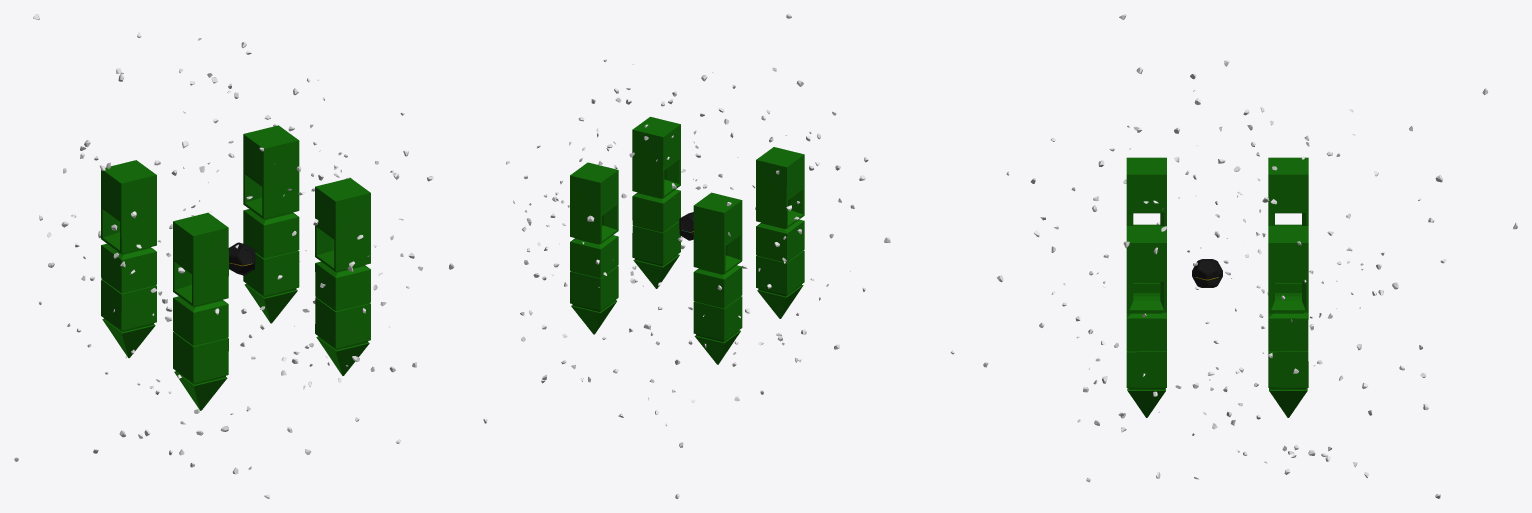
Rendered from Shards.fbx.
The picture shows the model from 3 angles, left to right: view 1: azimuth 30°, elevation 25°; view 2: azimuth 150°, elevation 25°; view 3: azimuth 270°, elevation 25°; orthographic projection. The views are drawn at different scales.
Parts seen in each view (by area): view 1: Obelisco.003, Obelisco.002, Obelisco, Obelisco.001, Eye_Ligth.001_cell, Hedron_Ship; view 2: Obelisco, Obelisco.001, Obelisco.002, Obelisco.003, Eye_Ligth.001_cell; view 3: Obelisco.001, Obelisco.002, Eye_Ligth.001_cell, Obelisco.003, Obelisco, Hedron_Ship.
Boxes of the visible parts, x1,y1,x2,y2 form: Obelisco.003: (173,212,228,410); Obelisco.002: (315,178,370,375); Obelisco: (101,160,156,357); Obelisco.001: (243,125,299,323); Eye_Ligth.001_cell: (14,14,454,498); Hedron_Ship: (228,242,255,275); Obelisco: (693,192,742,364); Obelisco.001: (570,162,618,334); Obelisco.002: (632,116,680,288); Obelisco.003: (756,147,804,318); Eye_Ligth.001_cell: (483,14,954,498); Obelisco.001: (1268,226,1308,417); Obelisco.002: (1126,226,1166,417); Eye_Ligth.001_cell: (983,14,1517,498); Obelisco.003: (1126,157,1166,292); Obelisco: (1268,157,1308,292); Hedron_Ship: (1192,259,1222,287).
Bounding box in the file's own units: 2537 × 2515 × 2644.
